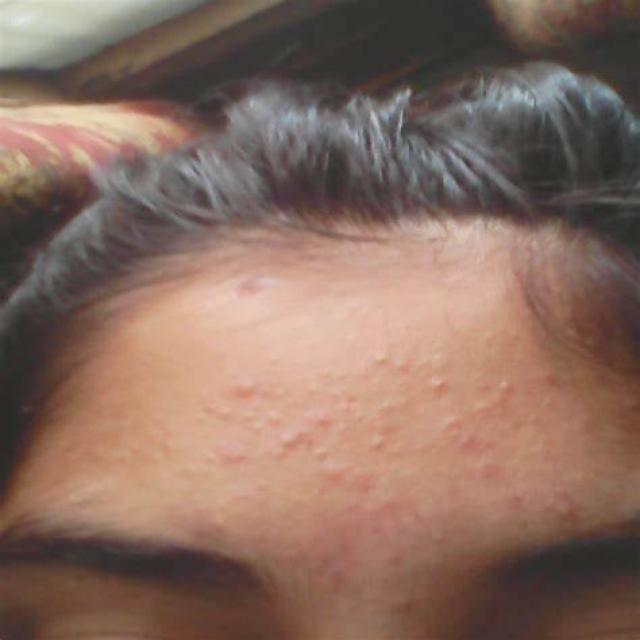fungal: (203, 346, 566, 525)
